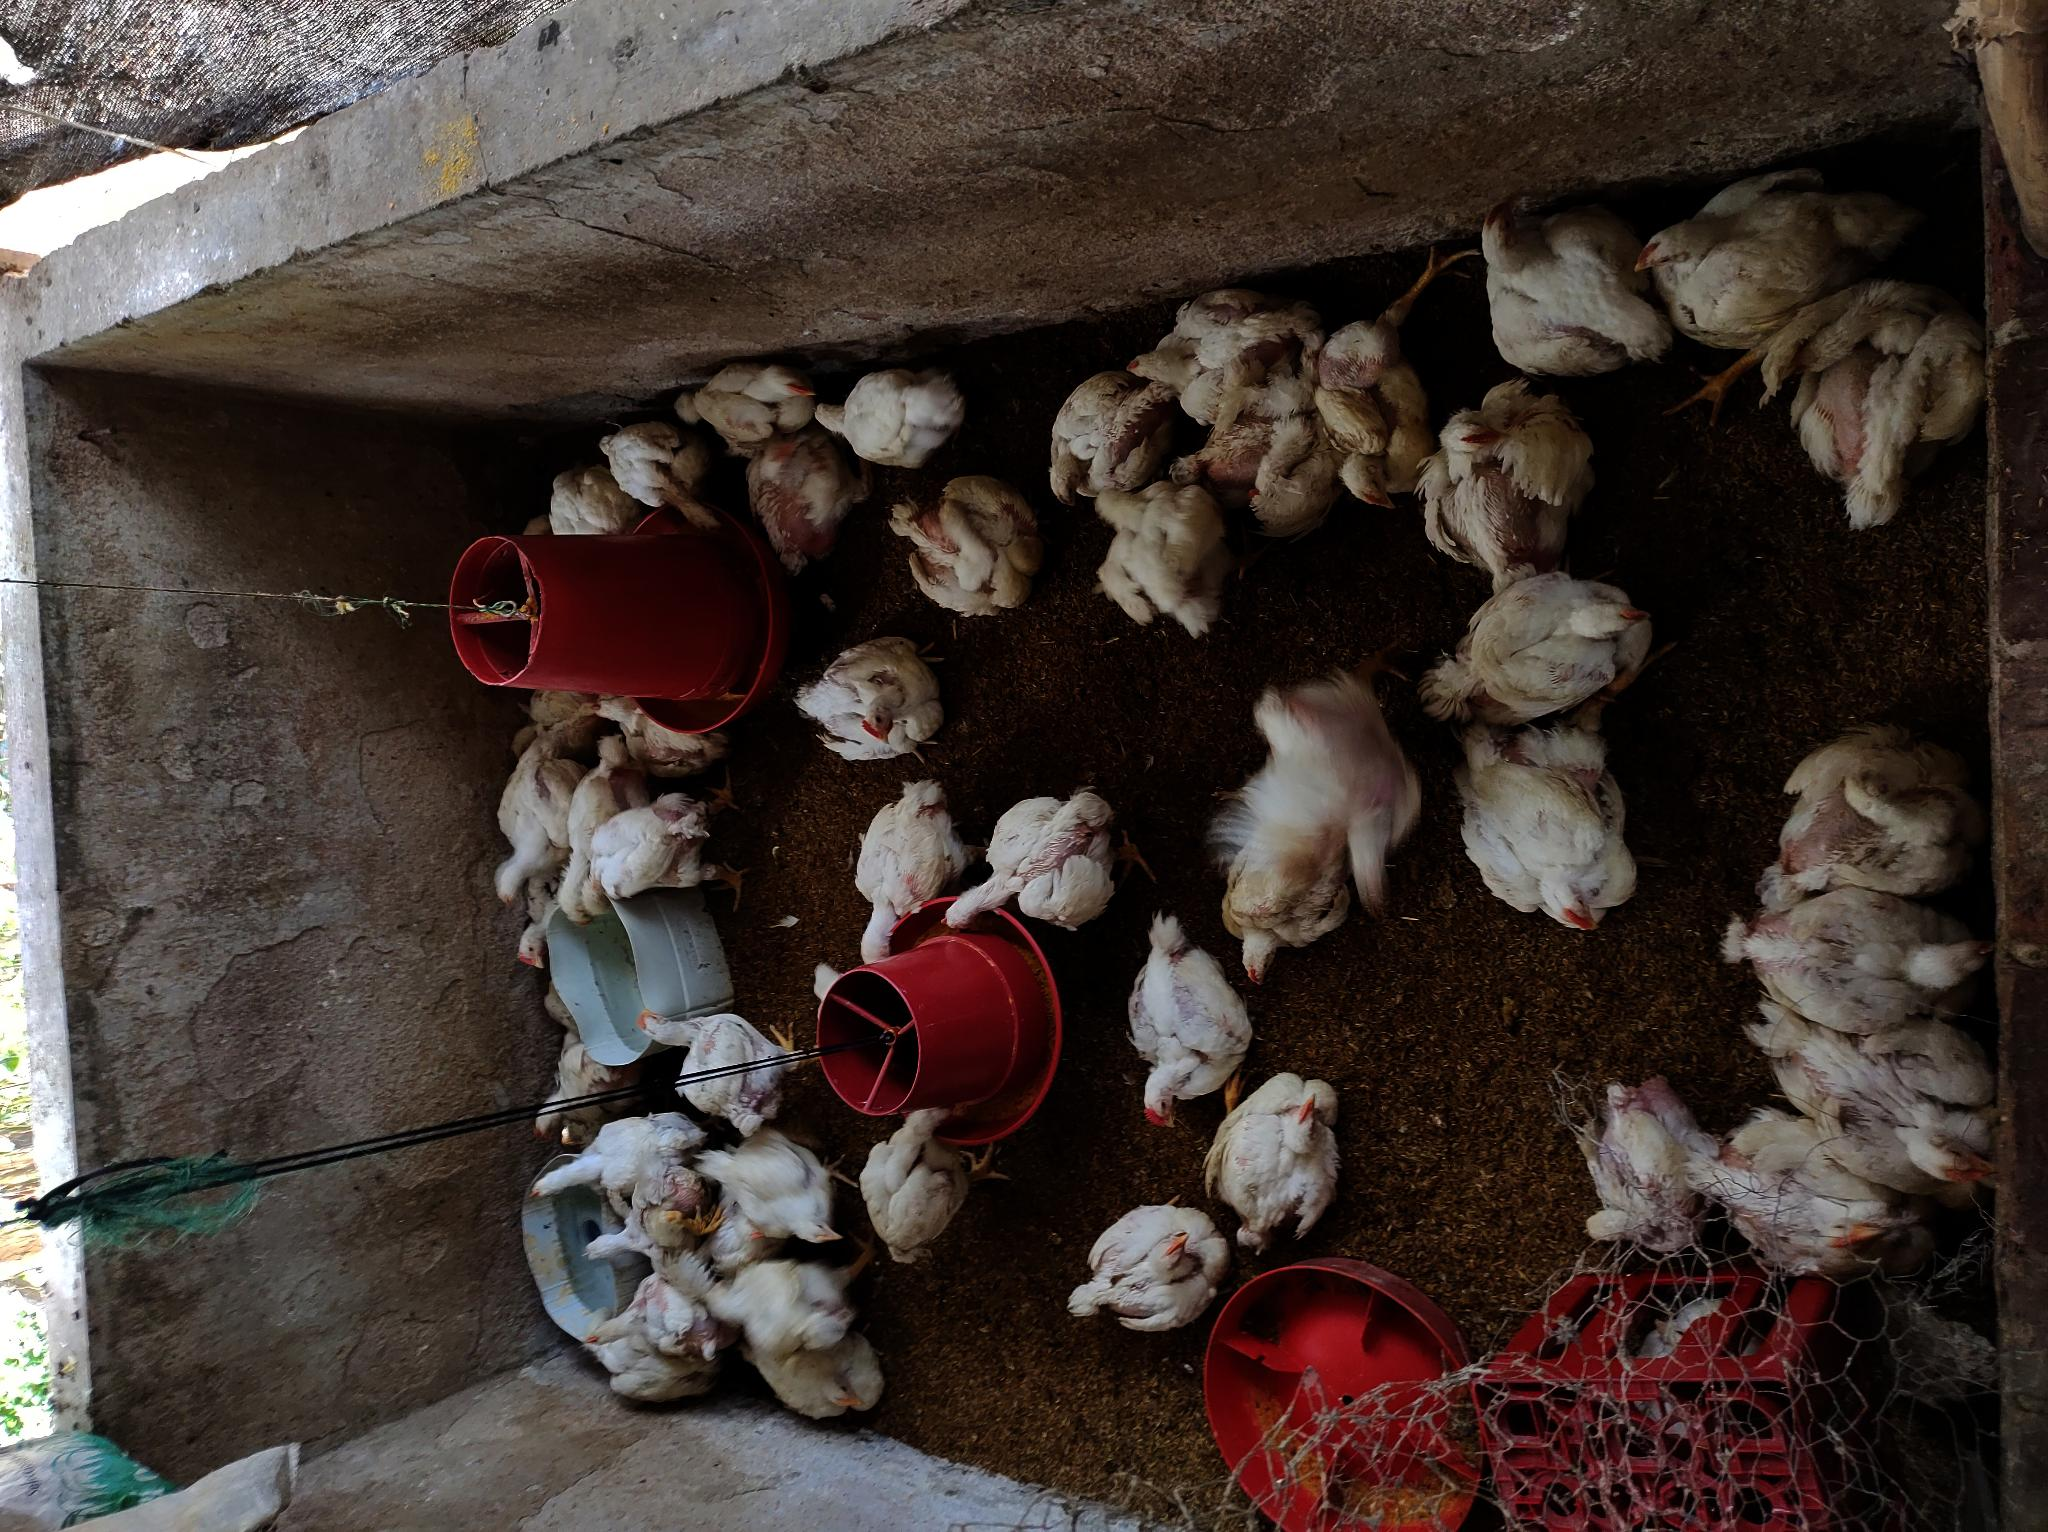Pollos: (1747, 274, 1977, 526), (1622, 169, 1911, 348), (1752, 991, 1998, 1191), (1760, 713, 1984, 898), (1458, 710, 1639, 937), (1738, 877, 1988, 1032), (1265, 677, 1422, 920), (1678, 1106, 1895, 1279), (1467, 193, 1678, 372), (1429, 570, 1652, 732), (1419, 369, 1586, 578), (1203, 787, 1356, 991), (1117, 930, 1247, 1138), (931, 785, 1113, 932), (1573, 1080, 1718, 1258), (1115, 294, 1321, 418), (1310, 314, 1433, 515), (1203, 1072, 1345, 1246), (1033, 370, 1197, 515), (1084, 483, 1237, 634), (1059, 1199, 1224, 1337), (890, 480, 1041, 621), (853, 769, 959, 969), (689, 1122, 846, 1249), (798, 636, 948, 764), (632, 1004, 783, 1131), (1171, 377, 1326, 492), (689, 1255, 877, 1345), (528, 1112, 697, 1212), (857, 1086, 951, 1265), (582, 792, 711, 920), (808, 373, 968, 472), (579, 1250, 711, 1366), (734, 430, 841, 571), (669, 365, 832, 447), (496, 747, 573, 909), (557, 755, 624, 929), (742, 1352, 906, 1419), (586, 694, 722, 771), (590, 428, 708, 512), (584, 1191, 672, 1279), (541, 467, 627, 542), (529, 1027, 590, 1131), (513, 900, 558, 983)
